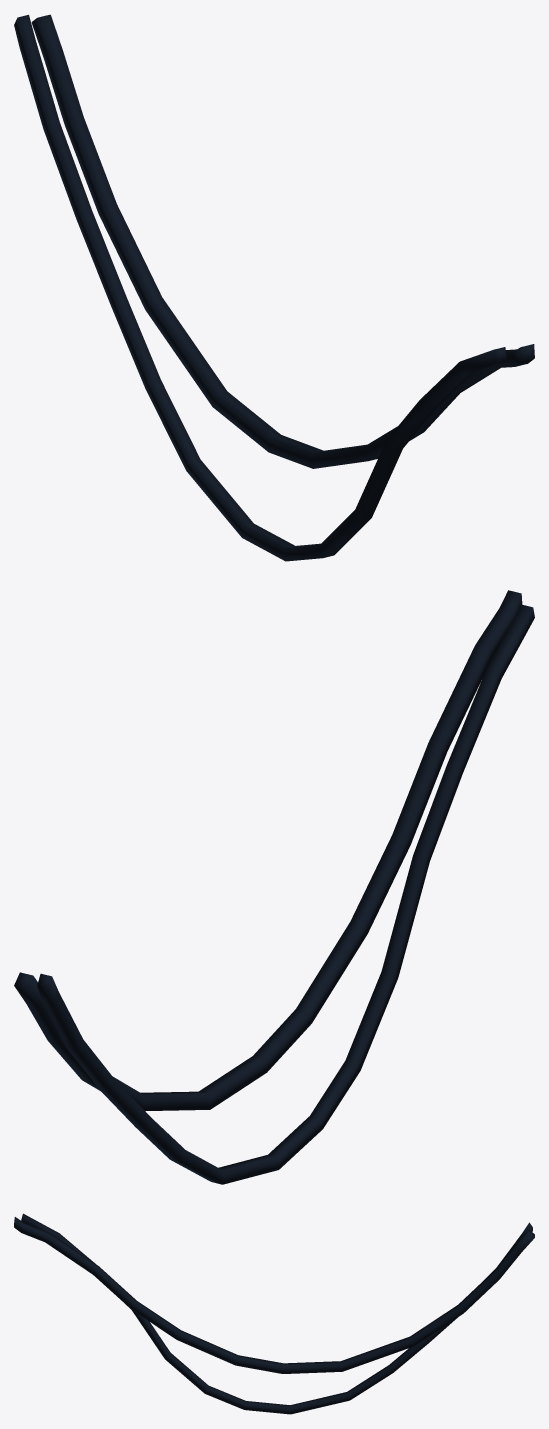
Rendered from SM_BWires_01.fbx.
3 views of the same model, one above another, from view 1: azimuth 30°, elevation 25°; view 2: azimuth 150°, elevation 25°; view 3: azimuth 270°, elevation 25° (orthographic). The views are drawn at different scales.
Visible parts, largest first — view 1: SM_BWires_01; view 2: SM_BWires_01; view 3: SM_BWires_01.
Boxes of the visible parts, x1,y1,x2,y2 form: SM_BWires_01: (14,14,534,561); SM_BWires_01: (14,590,534,1184); SM_BWires_01: (14,1213,534,1414).
Bounding box in the file's own units: 5.13 × 56.73 × 134.
